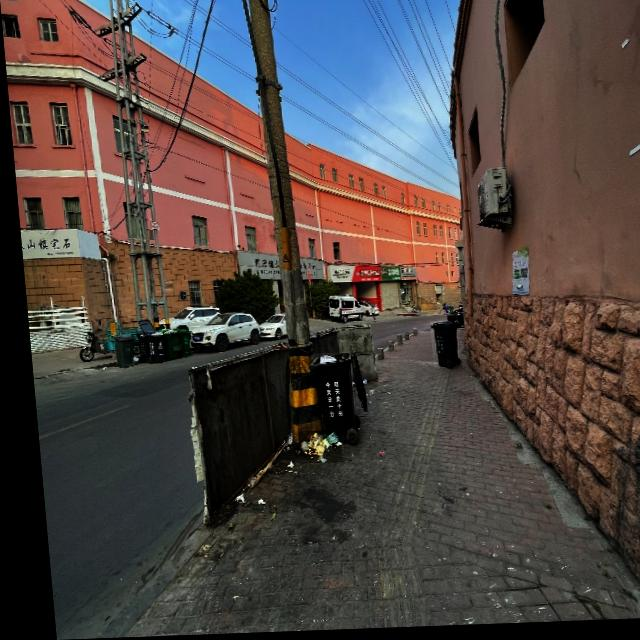garbage: (290, 432, 334, 465)
garbage_bin: (423, 324, 454, 371), (106, 334, 128, 368), (170, 330, 184, 357)
overflow: (299, 355, 350, 443), (141, 331, 160, 363), (156, 330, 176, 360), (129, 333, 143, 362)
